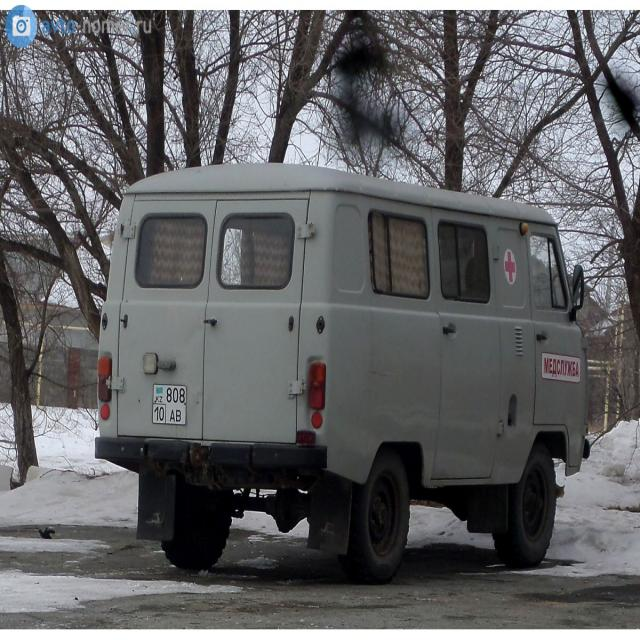car: (94, 161, 591, 582)
license: (152, 383, 187, 425)
